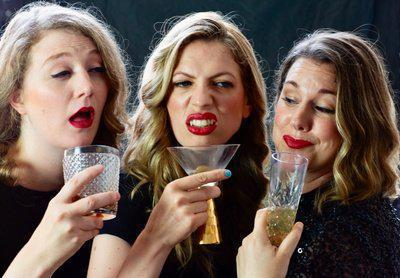Drunk: (33, 35, 107, 144), (170, 45, 242, 143), (277, 63, 338, 161)
